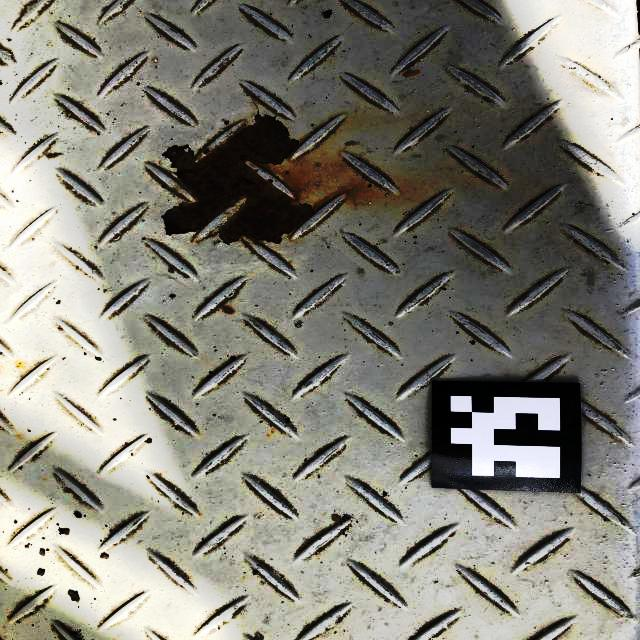Corrosion: (162, 116, 314, 244)
